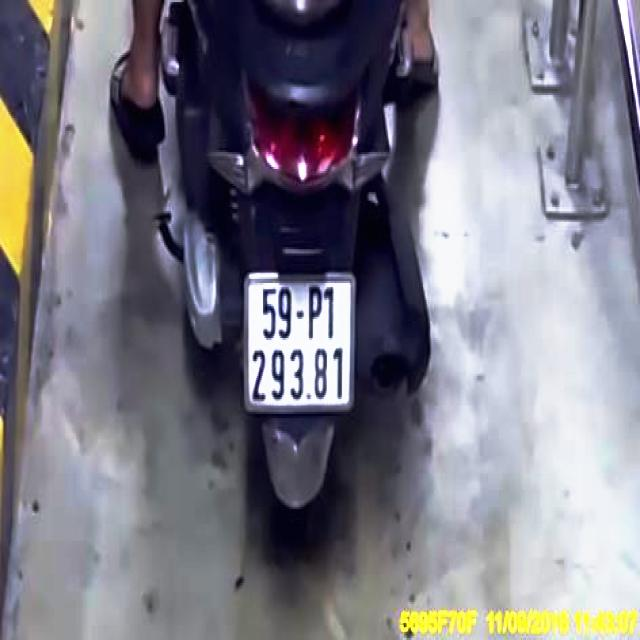license_plate: (247, 276, 356, 409)
